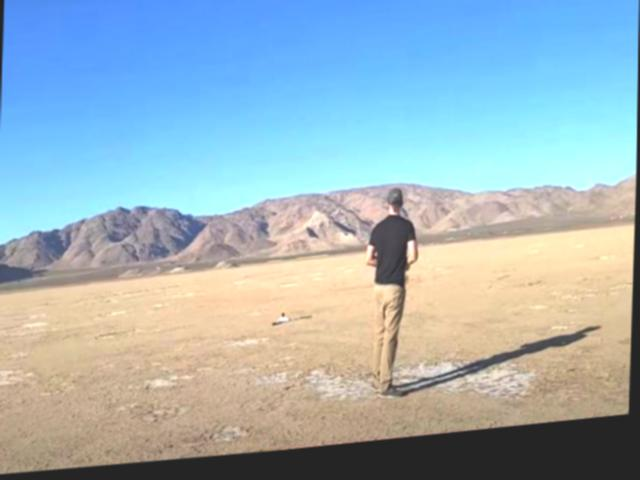iha: (267, 312, 314, 337)
